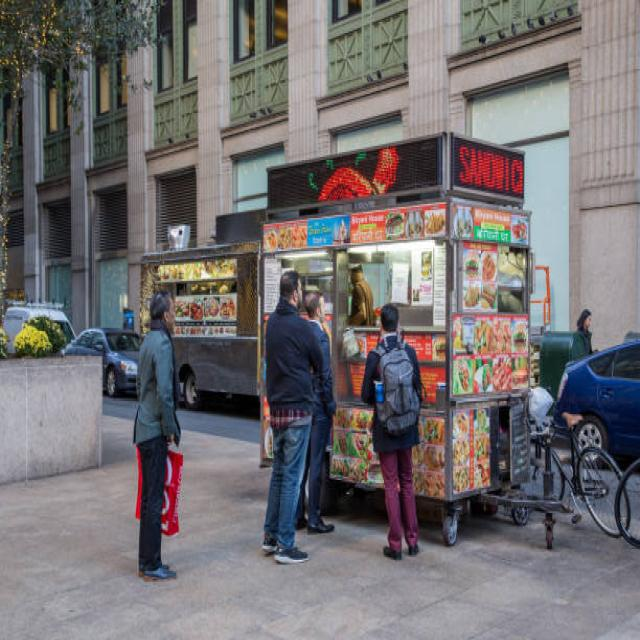Emperan: (233, 126, 596, 553)
